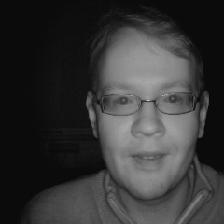happy: (73, 13, 224, 203)
